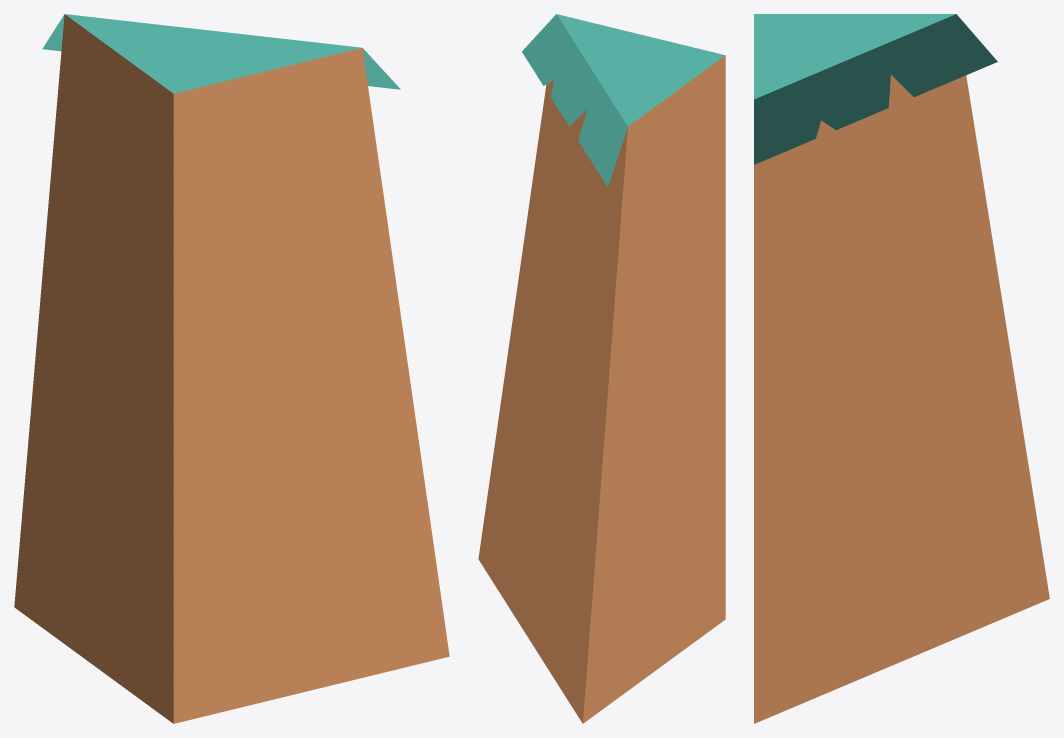
The model's file is cliffBrown_cornerTop.obj.
The picture shows the model from 3 angles, left to right: view 1: azimuth 30°, elevation 25°; view 2: azimuth 150°, elevation 25°; view 3: azimuth 270°, elevation 25°; orthographic projection. The views are drawn at different scales.
Parts seen in each view (by area): view 1: cliffBrown_cornerTop; view 2: cliffBrown_cornerTop; view 3: cliffBrown_cornerTop.
Part boxes in pixels (left/top/right/bottom): cliffBrown_cornerTop: left=14, top=14, right=449, bottom=723; cliffBrown_cornerTop: left=478, top=14, right=725, bottom=723; cliffBrown_cornerTop: left=754, top=14, right=1049, bottom=723.
Bounding box in the file's own units: 4.58 × 10 × 4.58.
